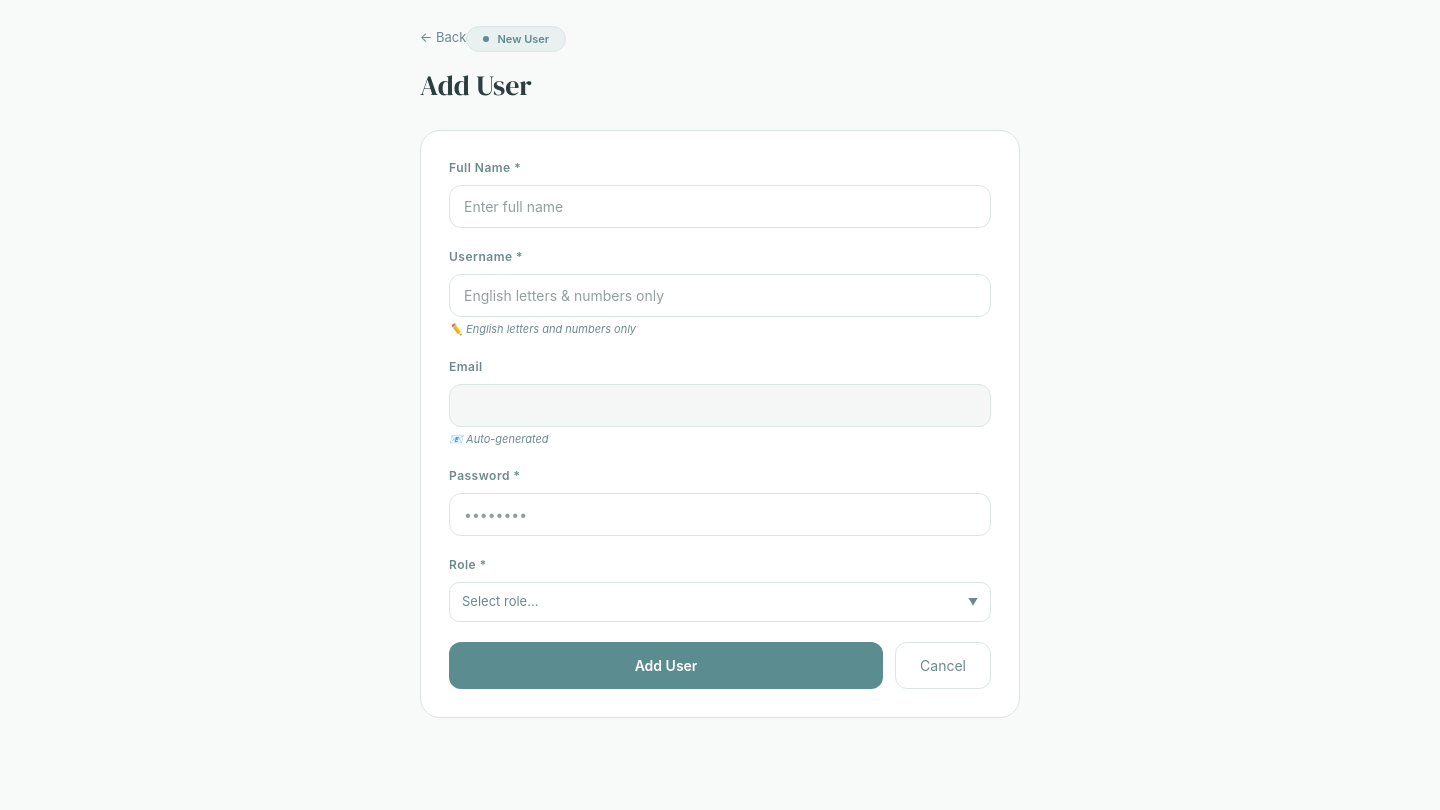
Test case: AddUser › requires a role before submitting
The width and height of the screenshot is (1440, 810).
In the field with placeholder "Enter full name": [720, 207] box [449, 185, 991, 228], type "Sara Ahmad"
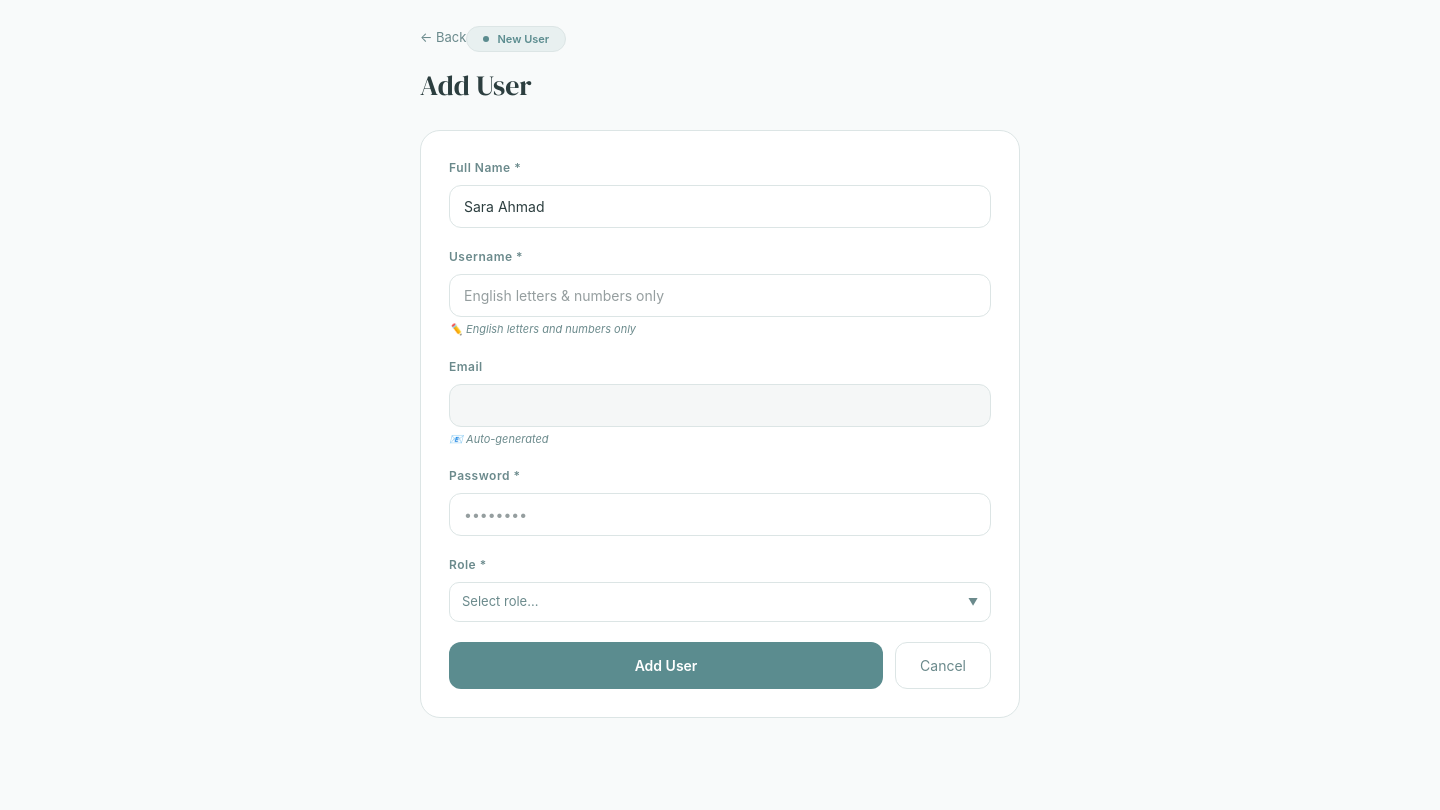
In the field with placeholder "English letters & numbers only": [720, 296] box [449, 274, 991, 317], type "saraahmad"
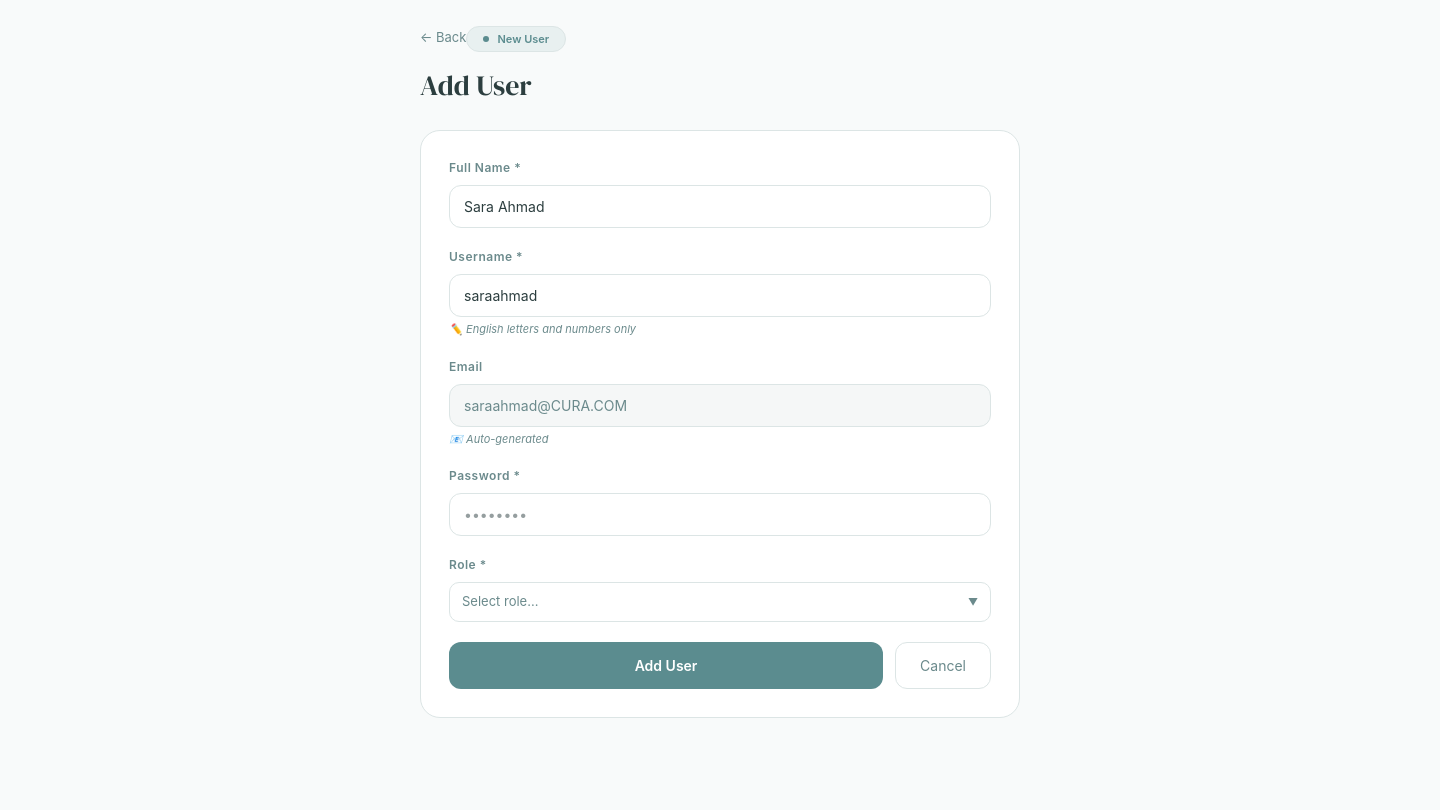
In the password field with placeholder "••••••••": [720, 515] box [449, 493, 991, 536], type "password123"
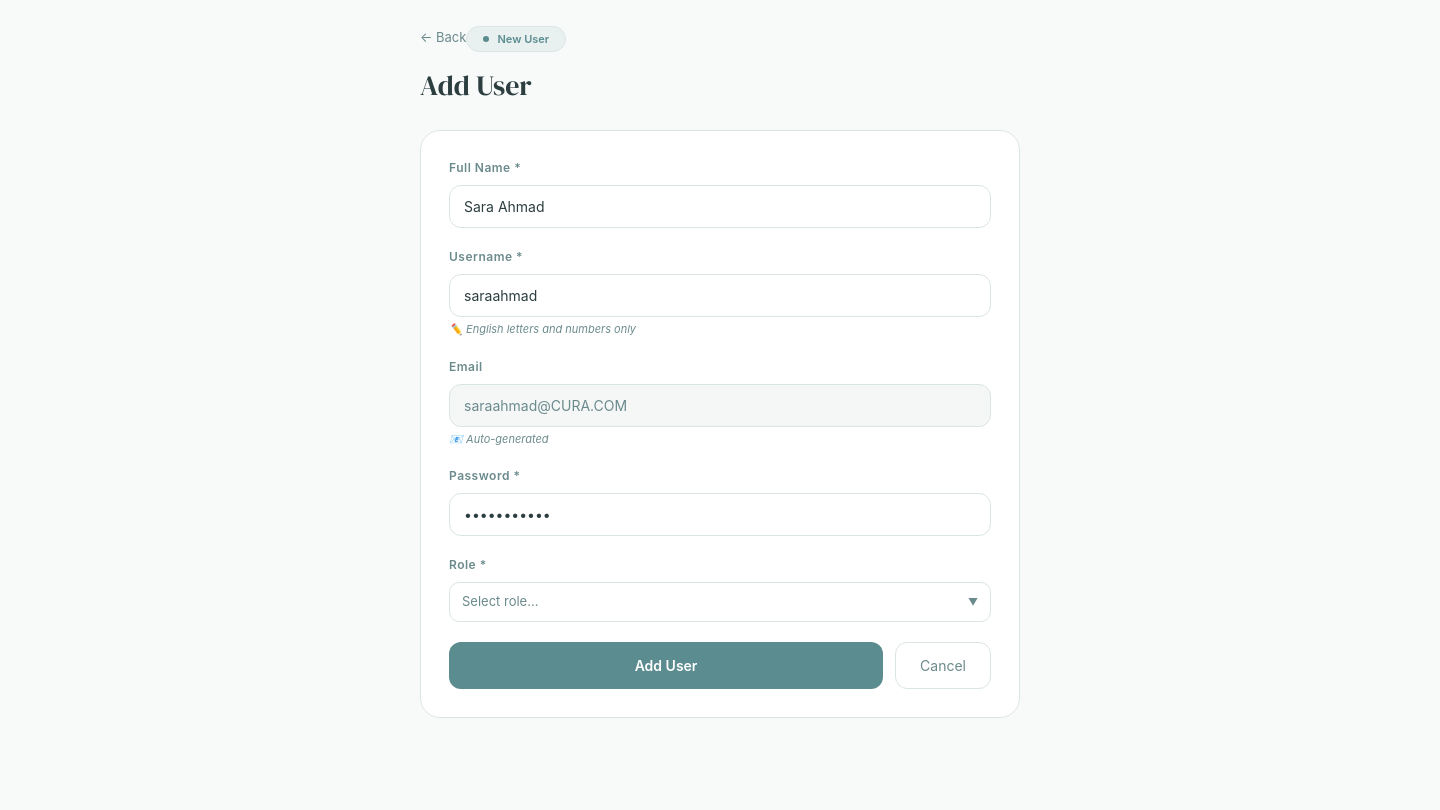
Click the button "Add User": [666, 665] box [449, 642, 883, 689]
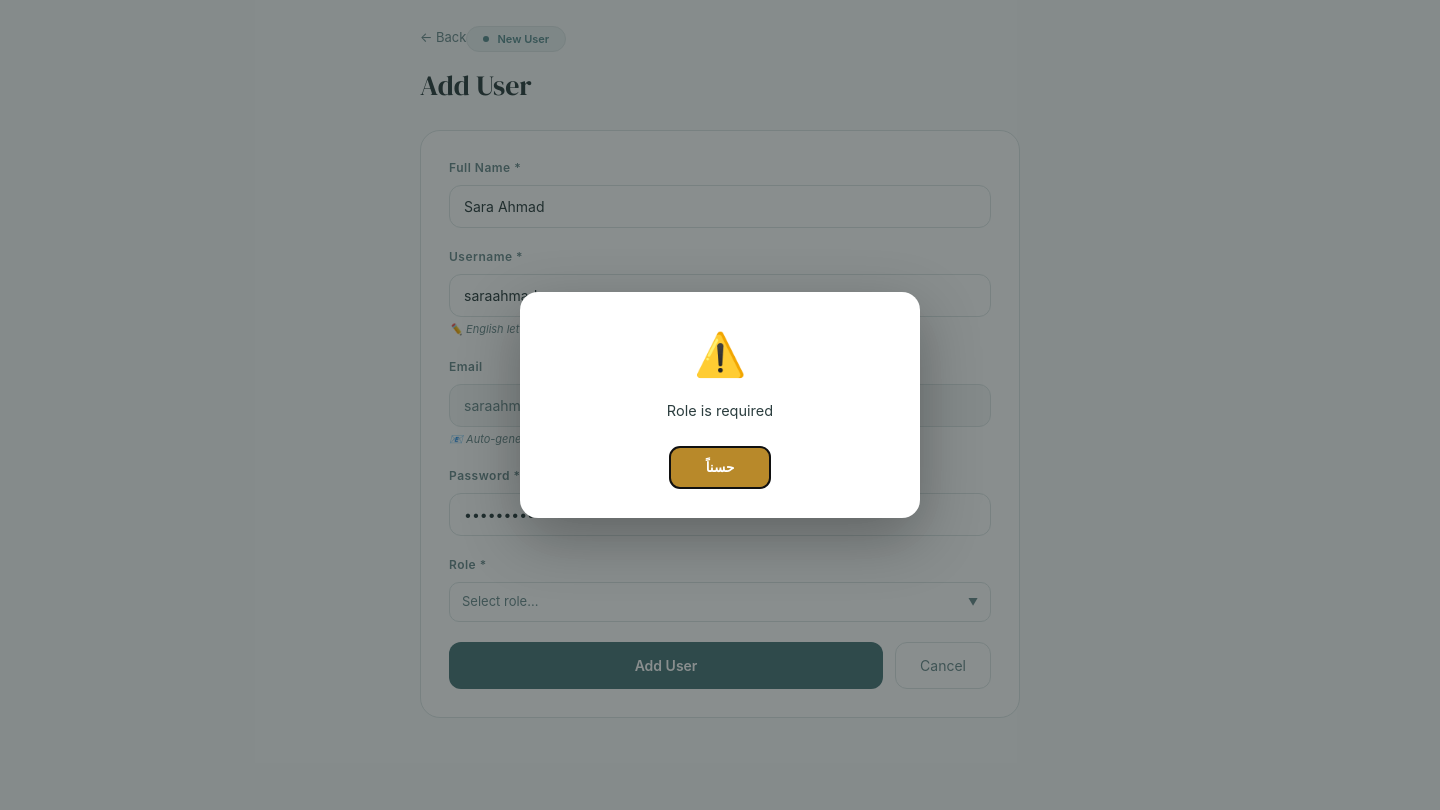
Now the text "Role is required" is shown, box [667, 402, 773, 419]
